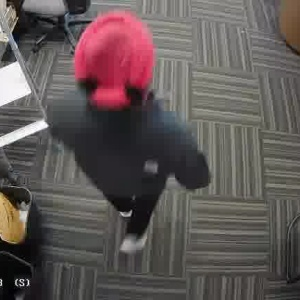person: (57, 29, 195, 257)
